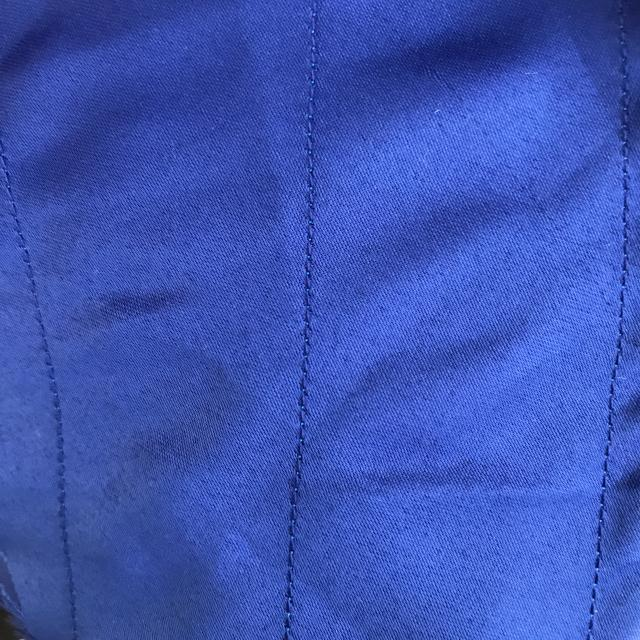good: (289, 158, 332, 324), (288, 353, 322, 501), (595, 422, 625, 548), (279, 521, 317, 606)
